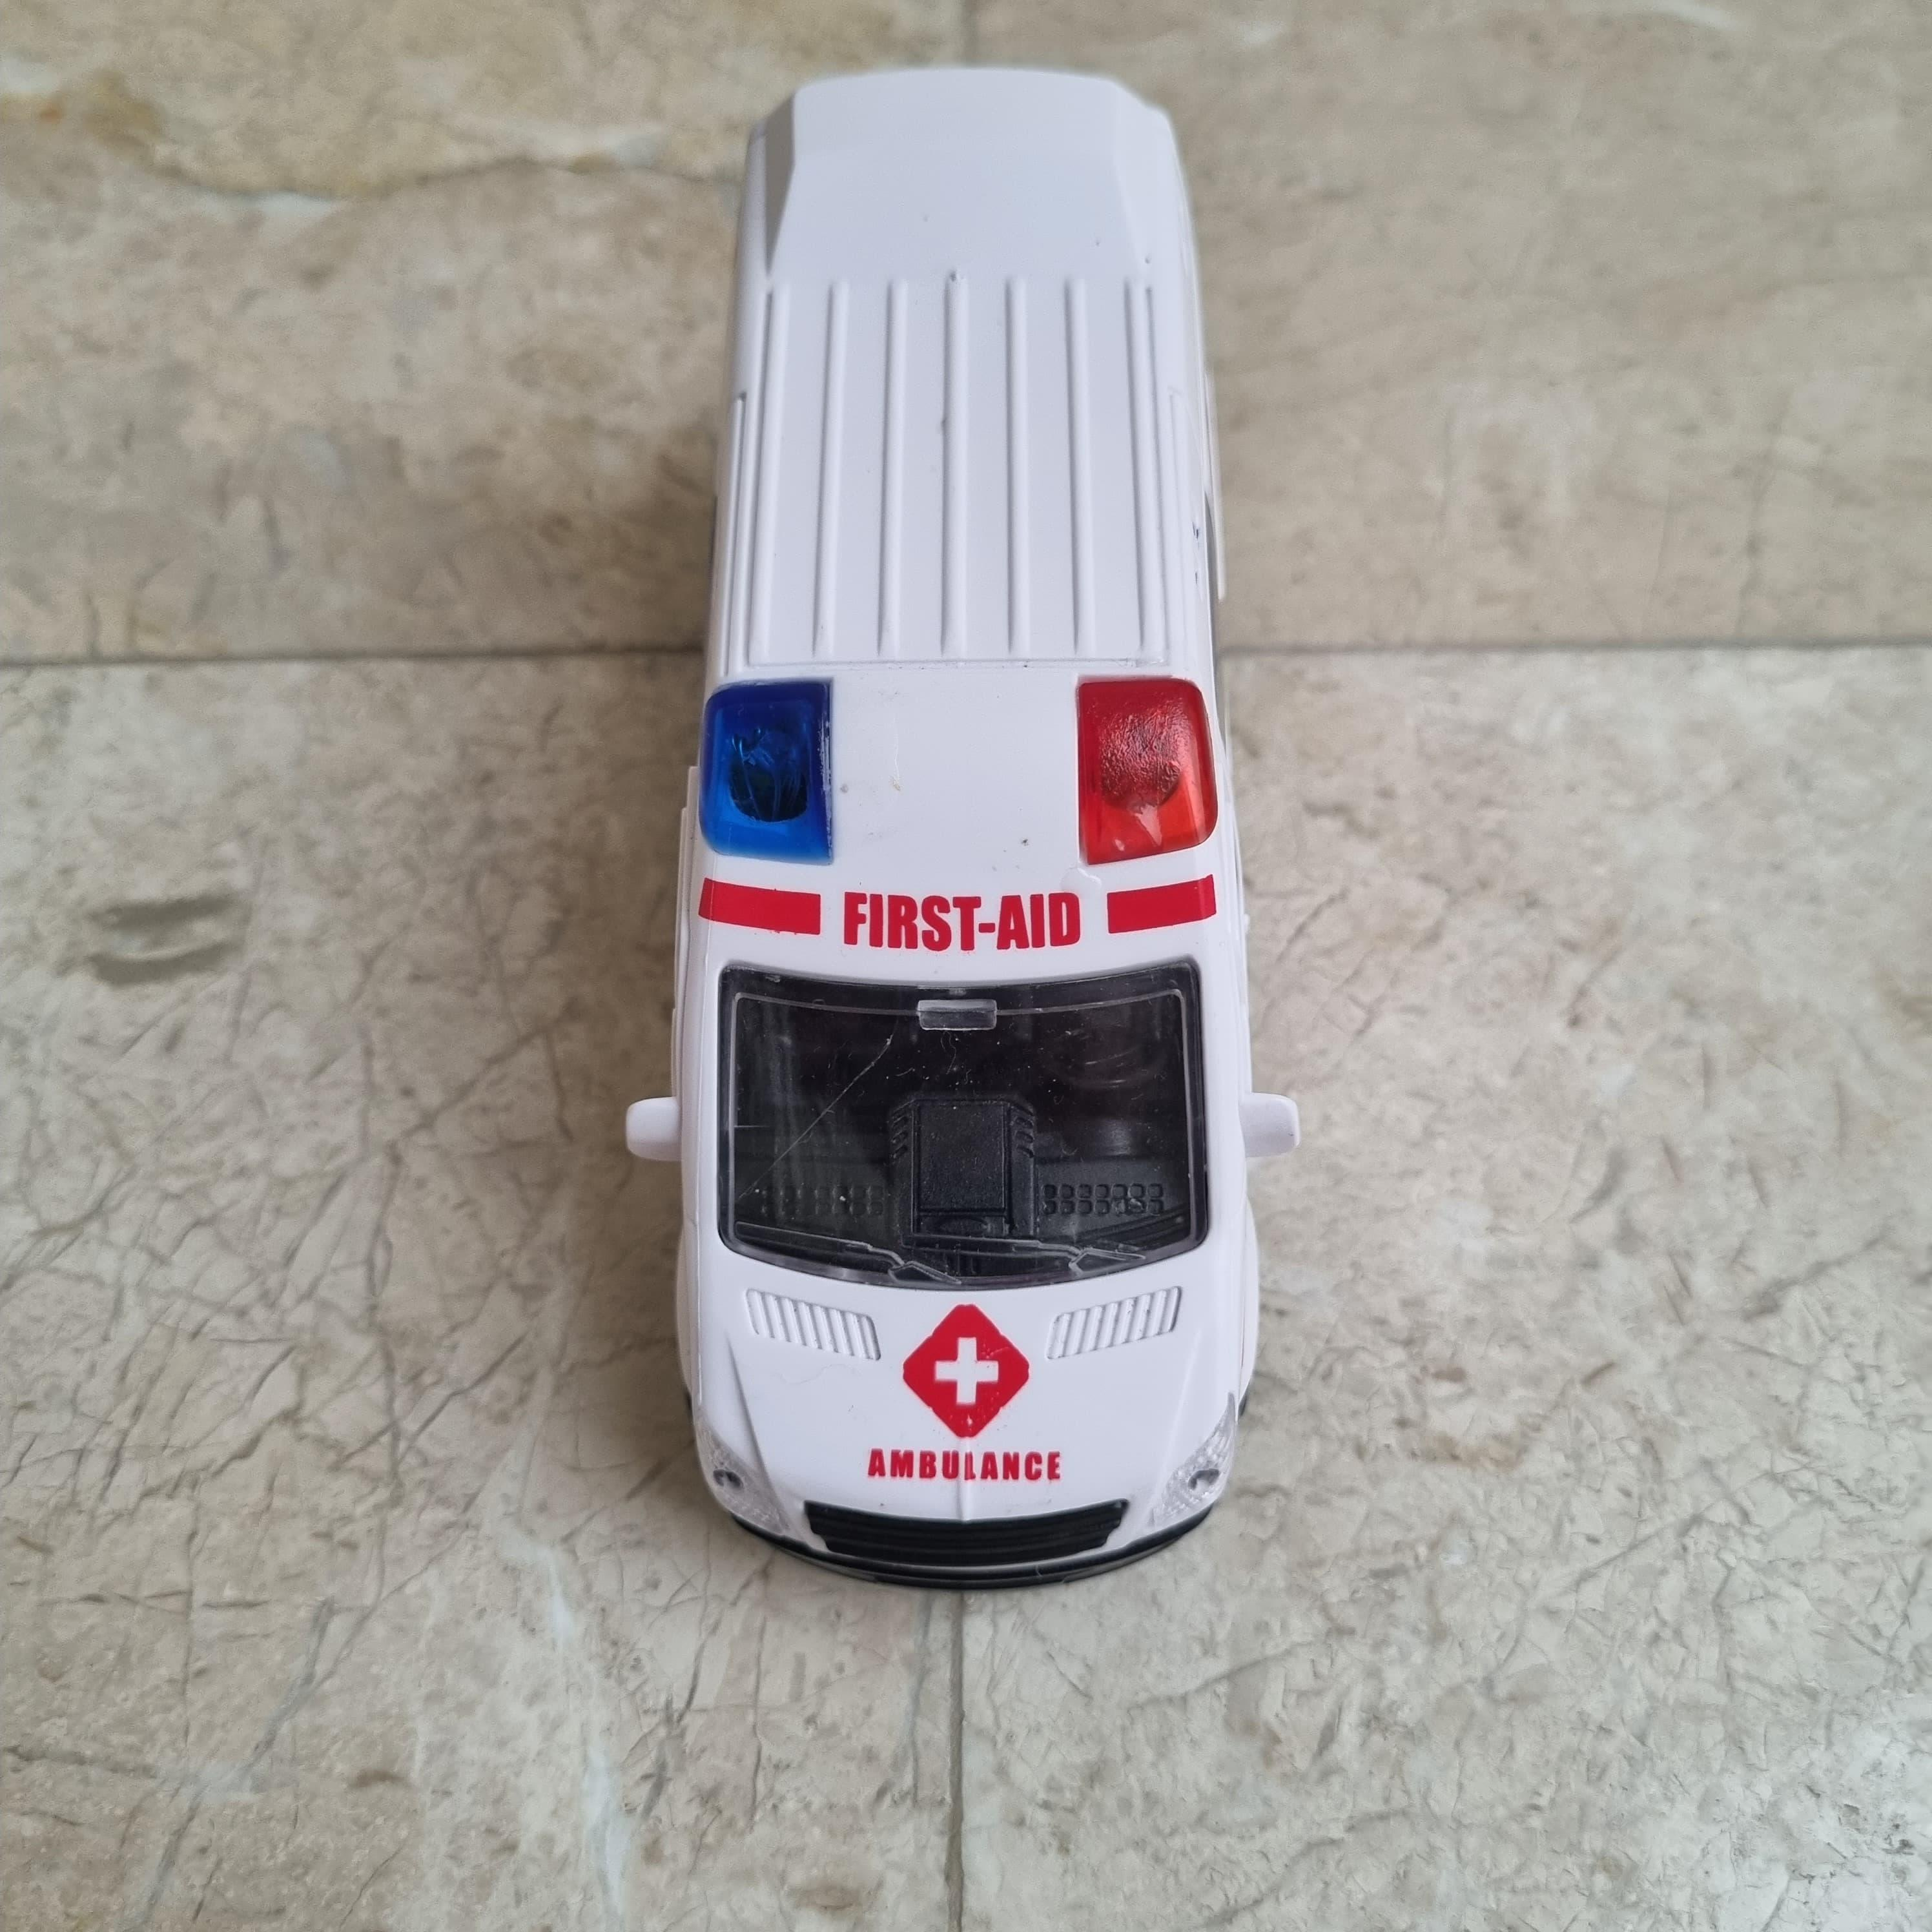ambulance_off: (626, 58, 1306, 1585)
